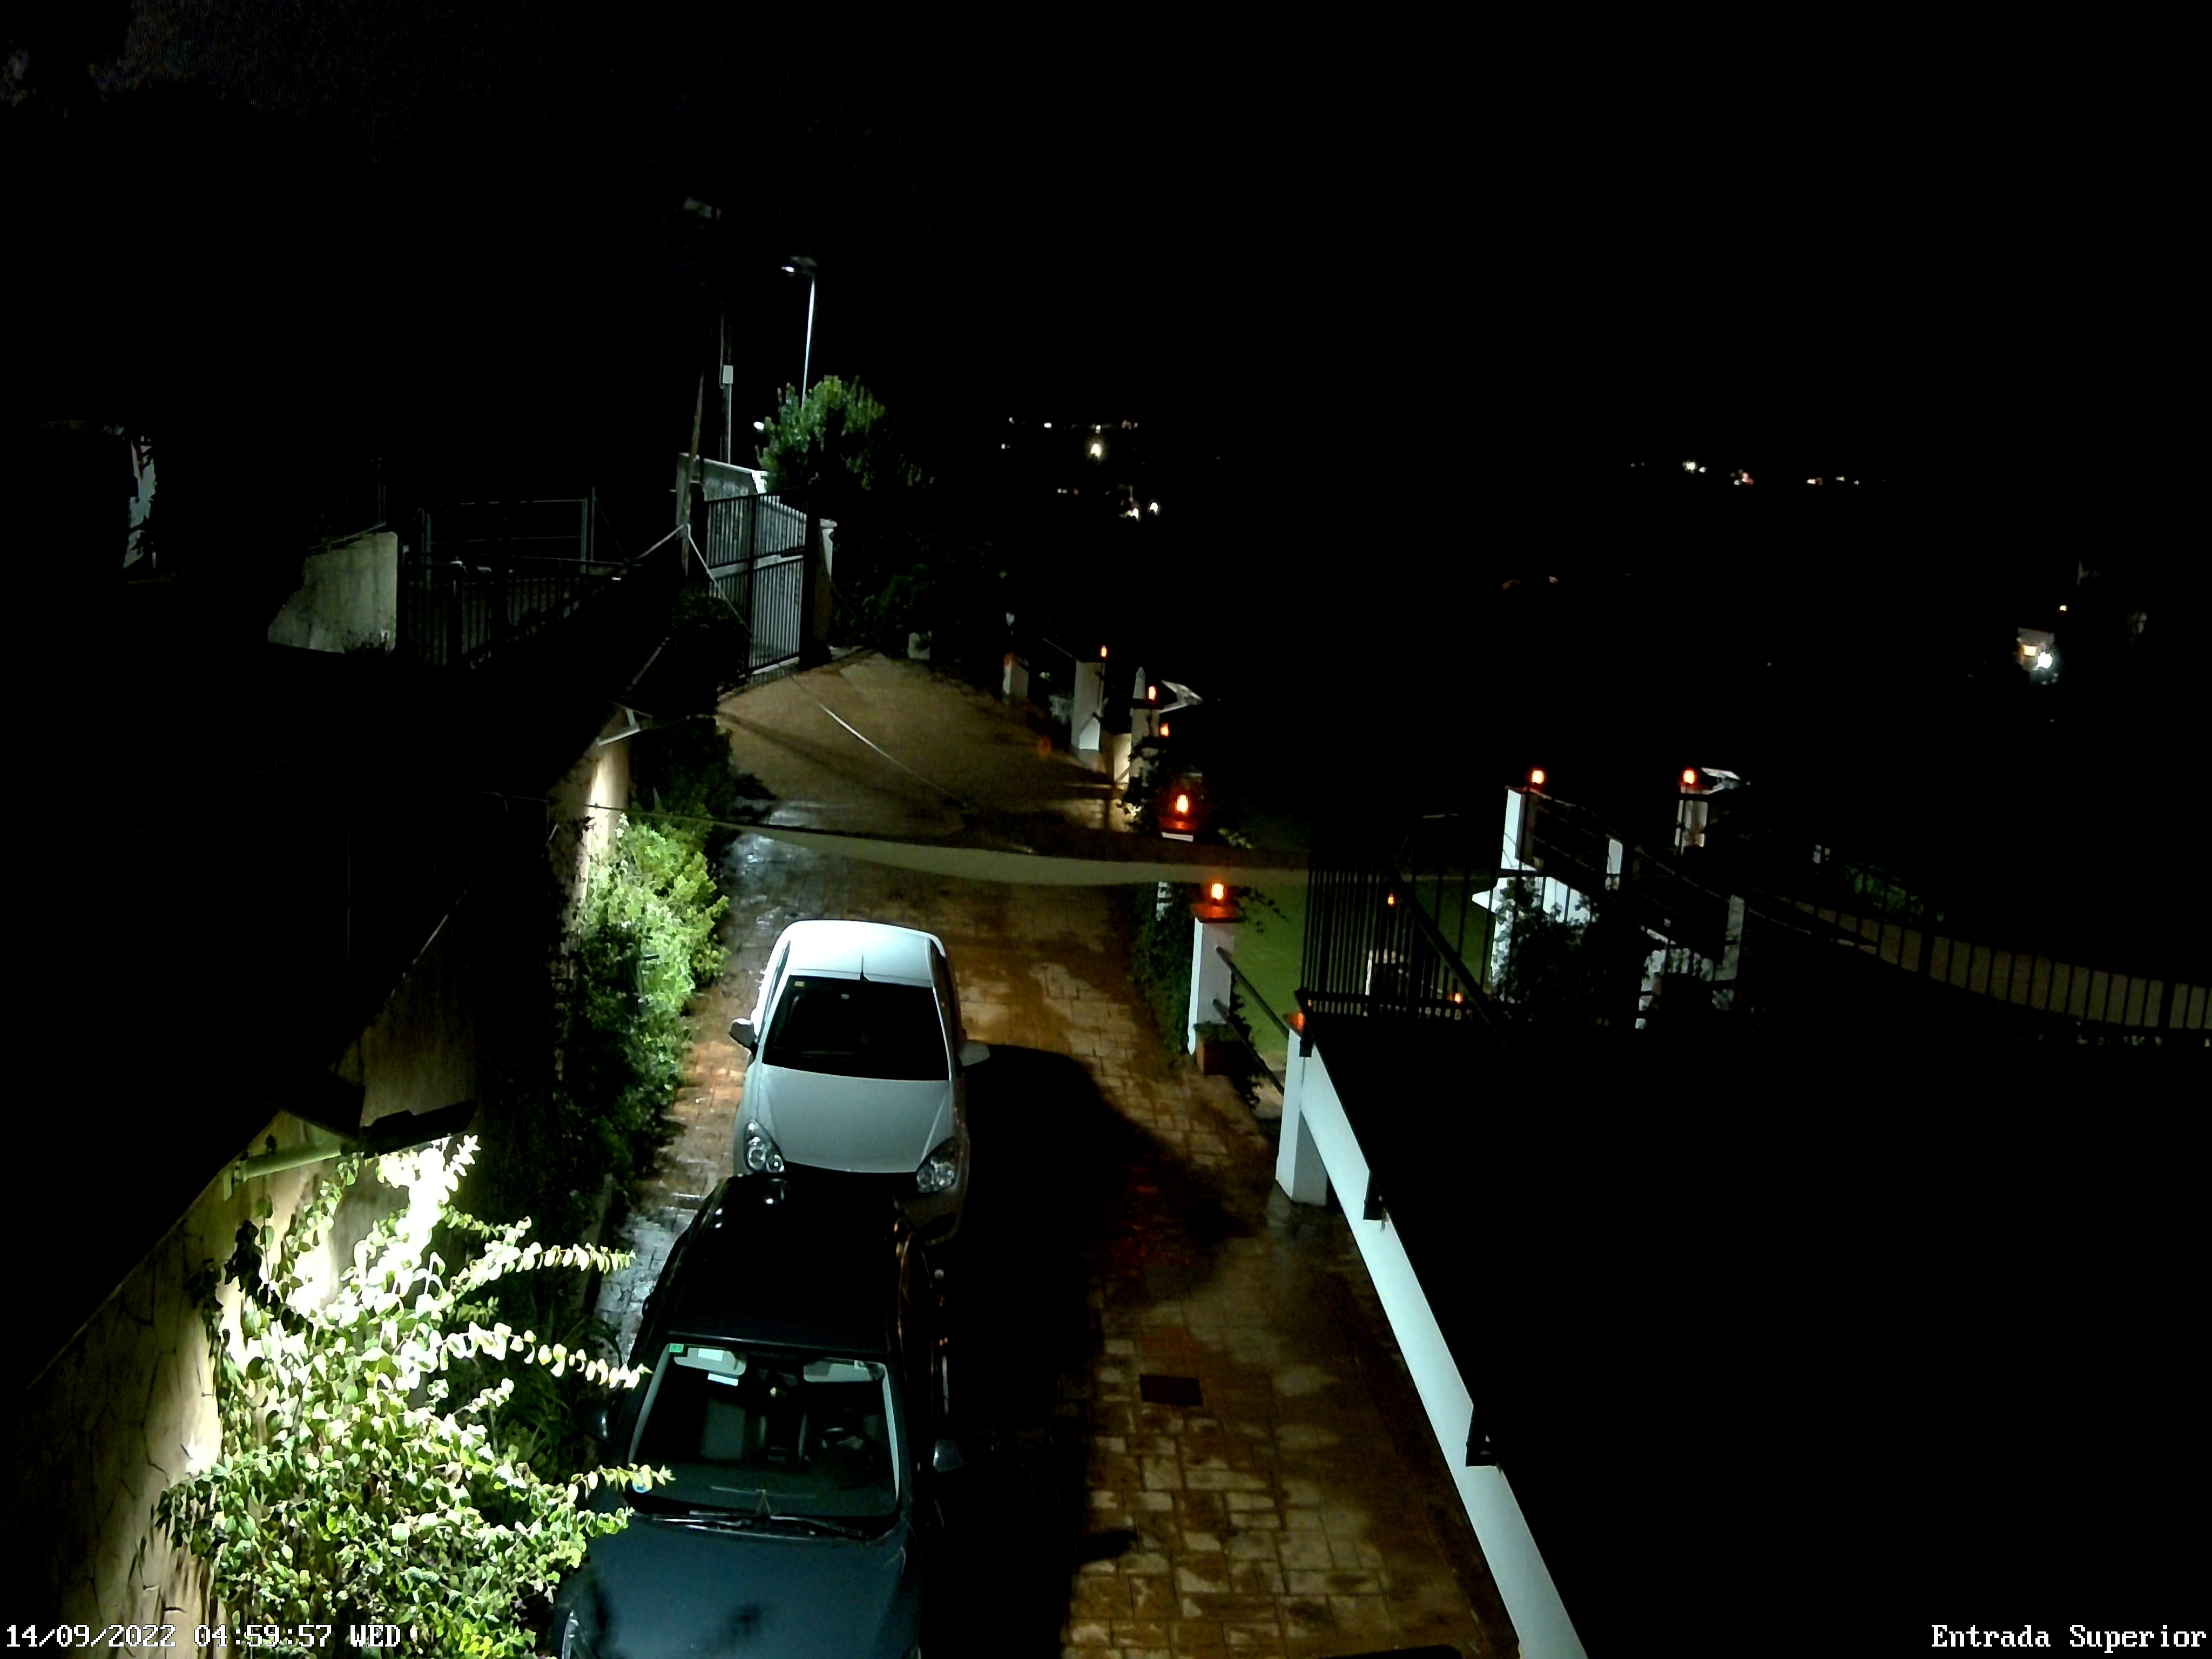vehicle: (554, 1178, 977, 1659), (726, 918, 979, 1206)
